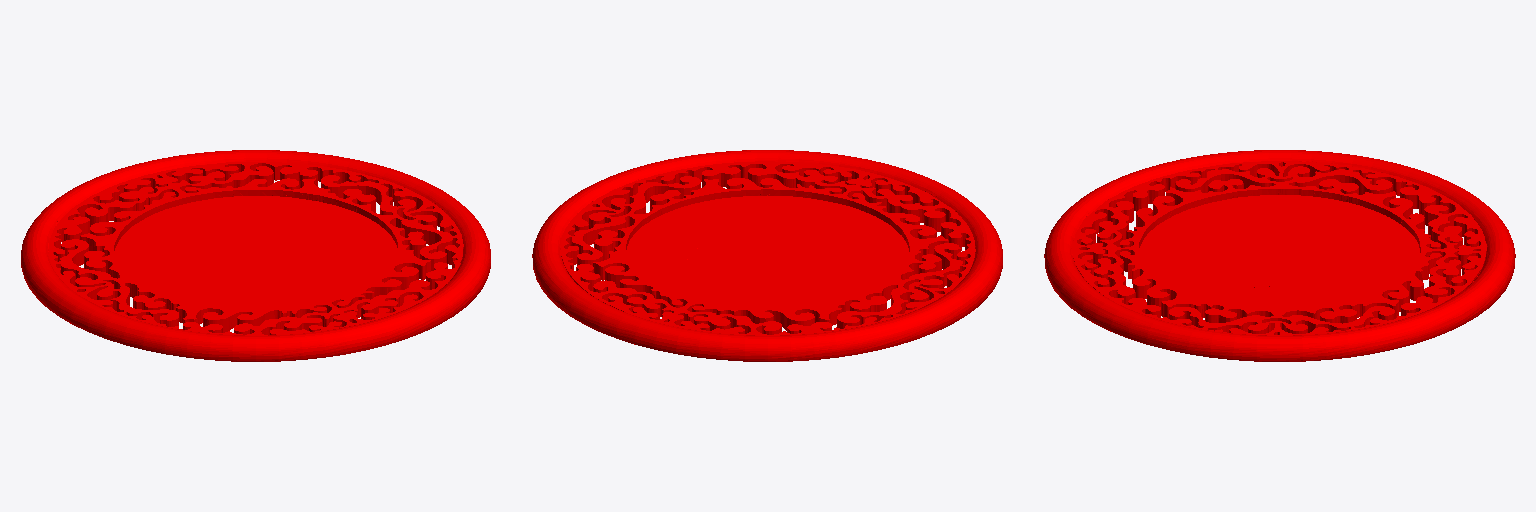
The robot description file, URDF, robot "box":
<?xml version="1.0"?>
<robot name="box">
  <link name="base_link">
    <visual>
      <geometry>
        <mesh filename="convert1_ornamentalplate.stl"/>
      </geometry>
      <origin xyz="0 0 0" rpy="0 0 0"/>
      <material name="red">
        <color rgba="1.0 0.0 0.0 2.0"/>
      </material>
    </visual>
    <collision concave="yes">
      <geometry>
        <mesh filename="convert1_ornamentalplate.stl"/>
      </geometry>
      <origin rpy="0.0 0 0" xyz="0 0 0"/>
    </collision>
    <inertial>
      <mass value="0.162843537854"/>
      <inertia ixx="5.07325303e-04" ixy="1.20146025e-06" ixz="0" iyy="4.98656710e-04" iyz="0.0" izz="1.00449300e-03"/>
    </inertial>
 </link>
</robot>

--- What the picture shows (computed from the rendered views, not written in the file) ---
The picture shows the robot from 3 angles, left to right: view 1: azimuth 30°, elevation 25°; view 2: azimuth 150°, elevation 25°; view 3: azimuth 270°, elevation 25°; orthographic projection.
Model box with 1 links and 0 joints (none), rooted at base_link, posed all joints at 0.
Visible links, largest first — view 1: base_link; view 2: base_link; view 3: base_link.
Link boxes in pixels (x1,y1,x2,y2): base_link: (21, 150, 490, 361); base_link: (532, 150, 1002, 361); base_link: (1044, 150, 1515, 361).
Size in the robot's own frame: 0.2071 by 0.2071 by 0.0091 metres.
1 mesh visuals loaded from 1 distinct referenced files (1 binary STL).